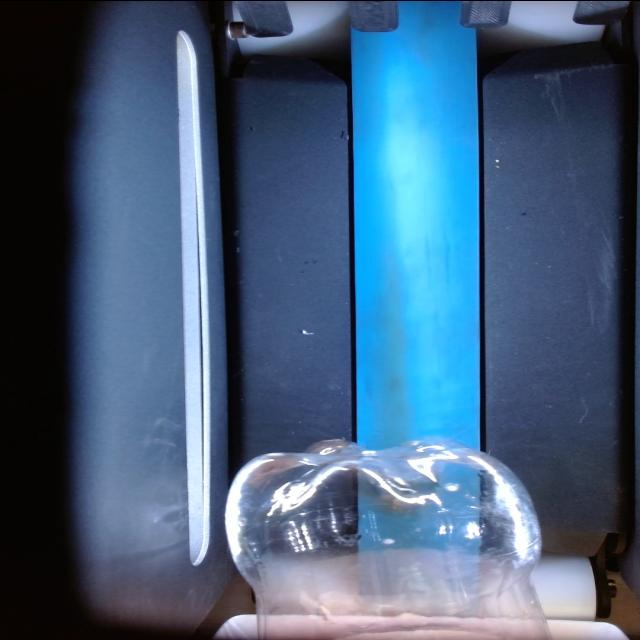bottle: (225, 438, 548, 640)
